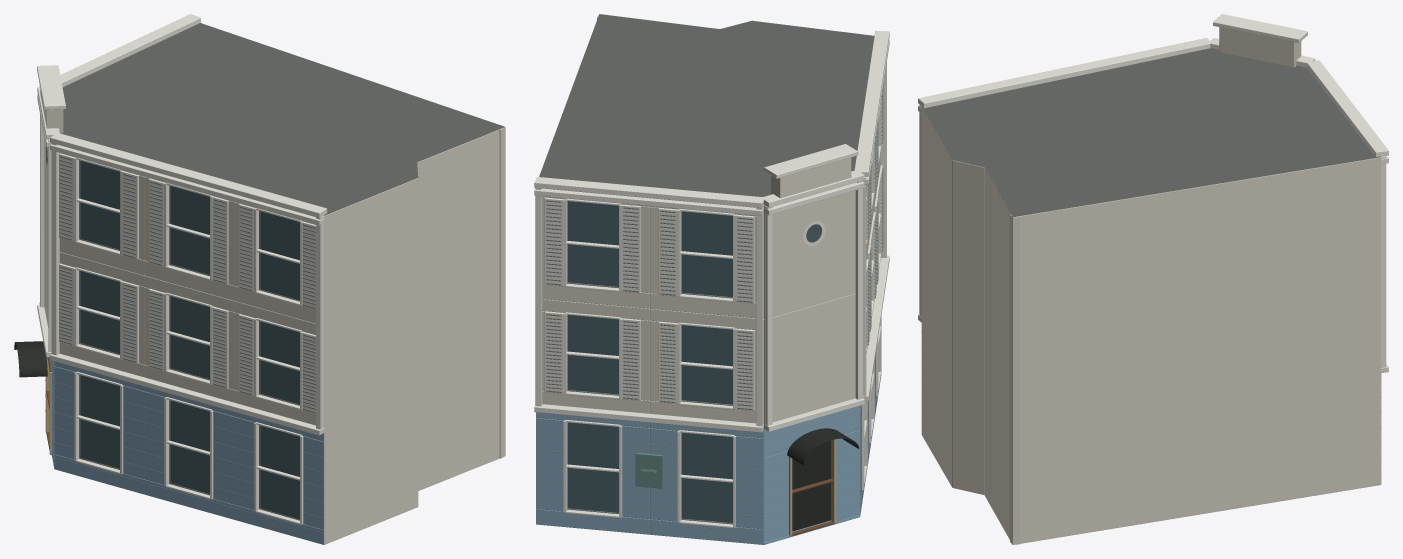
Rendered from 49l-exterior-738998668e1b.glb.
3 views of the same model, side by side, from view 1: azimuth 30°, elevation 25°; view 2: azimuth 150°, elevation 25°; view 3: azimuth 270°, elevation 25° (orthographic). The views are drawn at different scales.
Parts seen in each view (by area): view 1: 49L.001; view 2: 49L.001; view 3: 49L.001.
Part boxes in pixels (x1,y1,x2,y2): 49L.001: [14, 14, 505, 544]; 49L.001: [534, 14, 889, 544]; 49L.001: [918, 14, 1388, 544].
Size of the model in its own units: 12.79 by 11.91 by 14.19.
